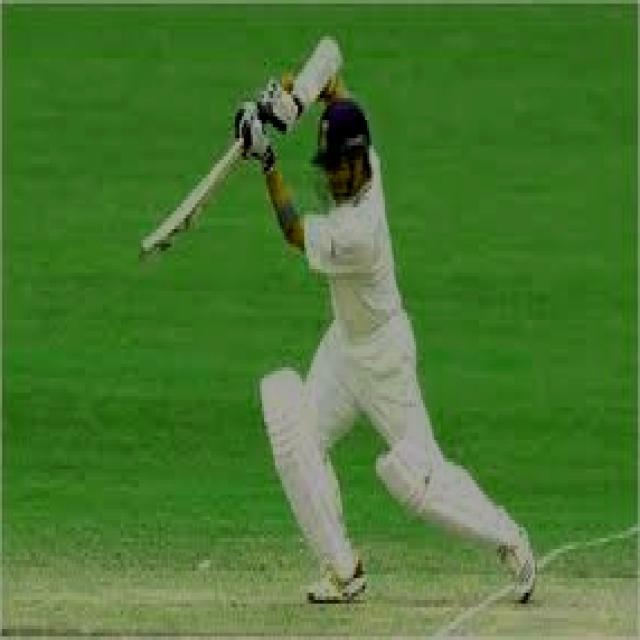bat: (133, 143, 243, 264)
